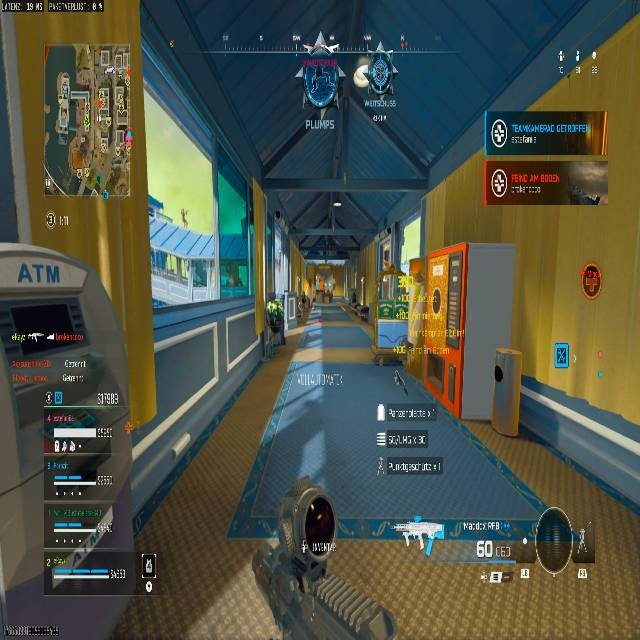player: (265, 295, 285, 347)
